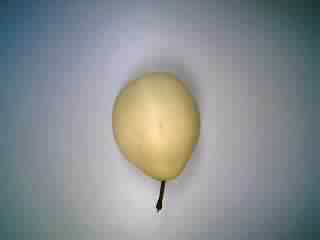pear: (98, 63, 214, 221)
